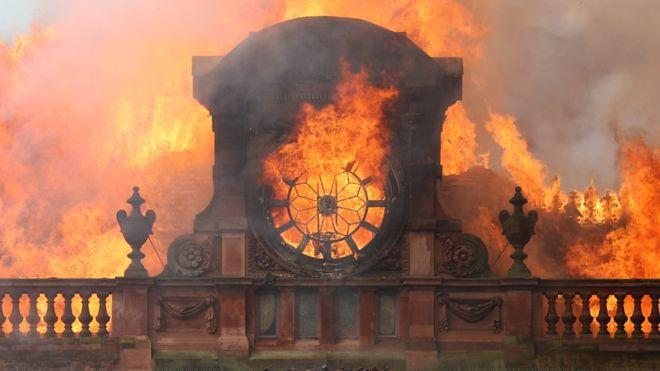fire: (179, 0, 480, 283), (566, 198, 660, 279)
